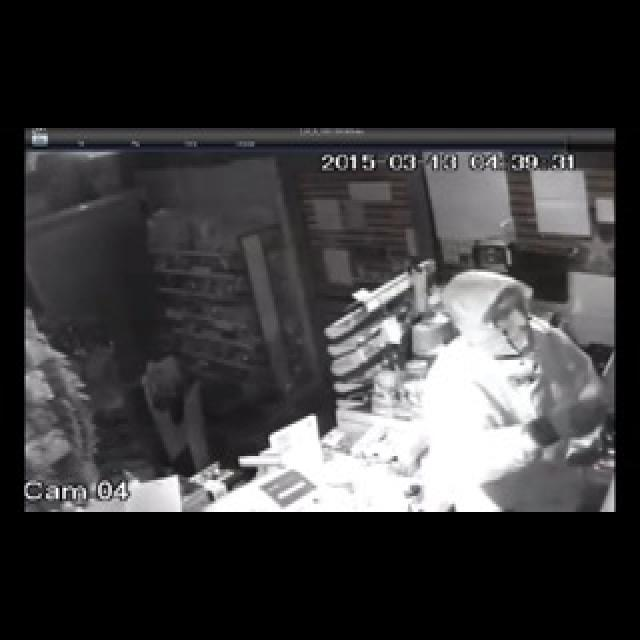thief: (417, 258, 596, 491)
